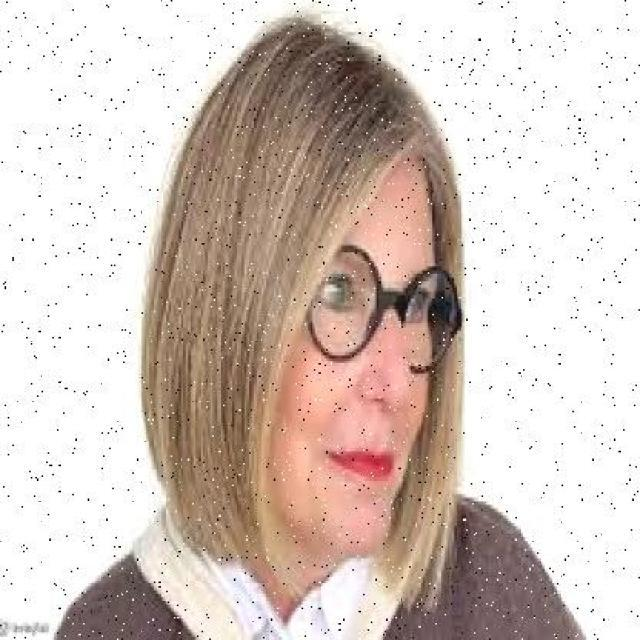glasses: (296, 235, 464, 378)
